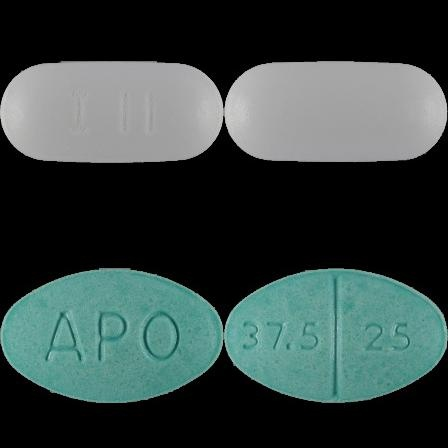51655-628: (0, 0, 224, 224)
